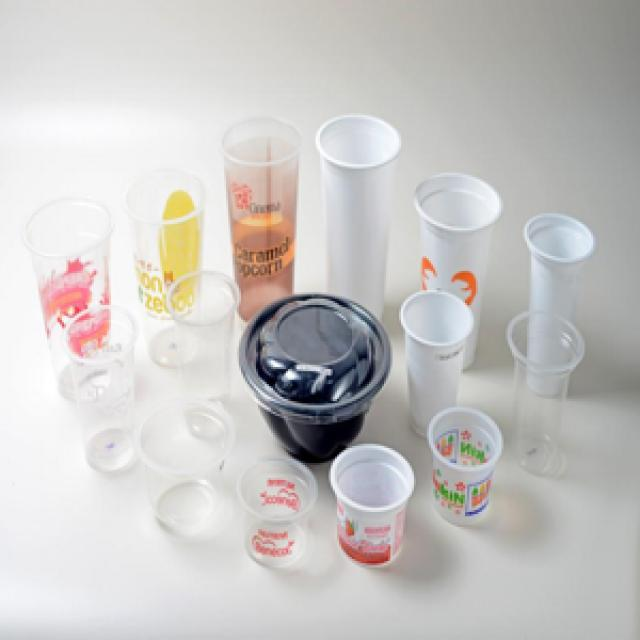plastic cup: (17, 194, 124, 412), (410, 166, 508, 374), (312, 109, 403, 333), (117, 166, 215, 374), (214, 113, 308, 329), (158, 262, 247, 444), (58, 298, 149, 476), (132, 395, 239, 546), (518, 207, 600, 403), (503, 305, 589, 486), (324, 437, 420, 572), (397, 290, 478, 442), (233, 452, 324, 572), (424, 403, 504, 536)
